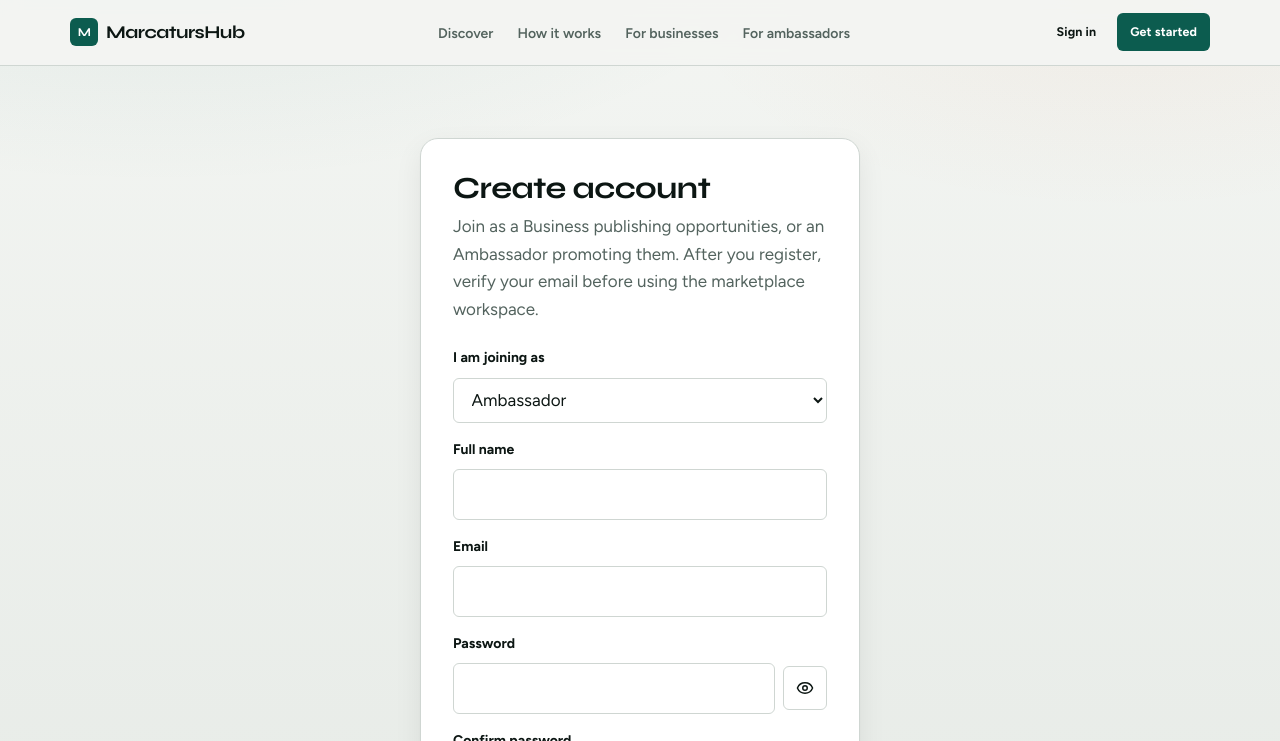
Scenario: MH-OPS-055 registration field-level API validation UX › Test C — ignores unknown/malformed details and shows form-level fallback
Select "Ambassador" in the dropdown labelled "I am joining as": (640, 400) [453,378,827,423]
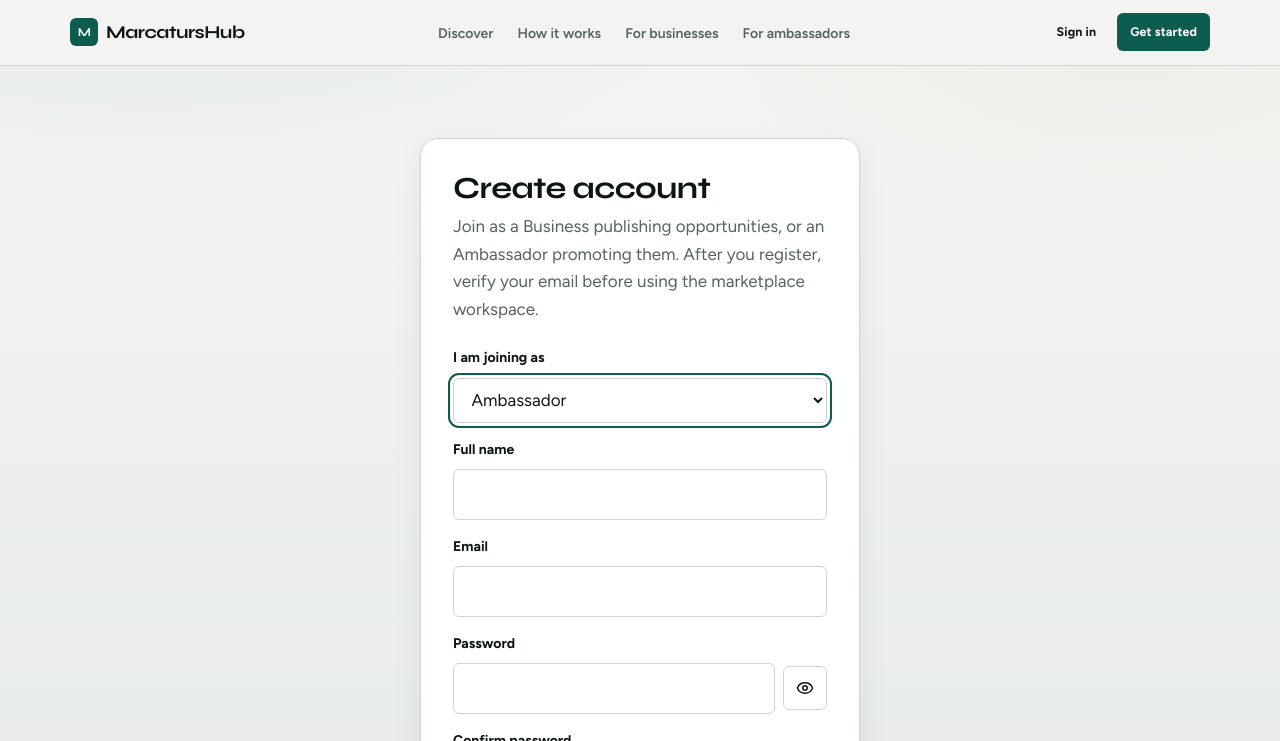
In the field labelled "Full name": (640, 494) [453,469,827,520], type "New Participant"
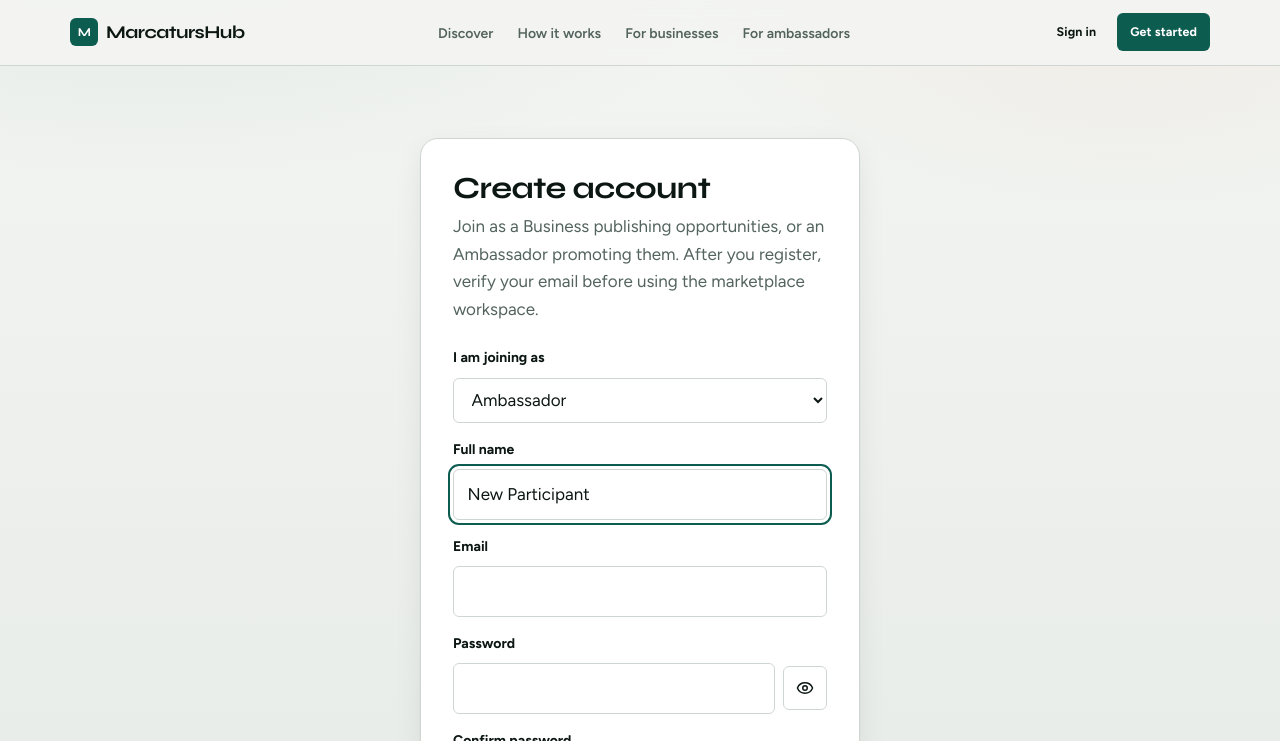
In the field labelled "Email": (640, 591) [453,566,827,616], type "new@example.com"
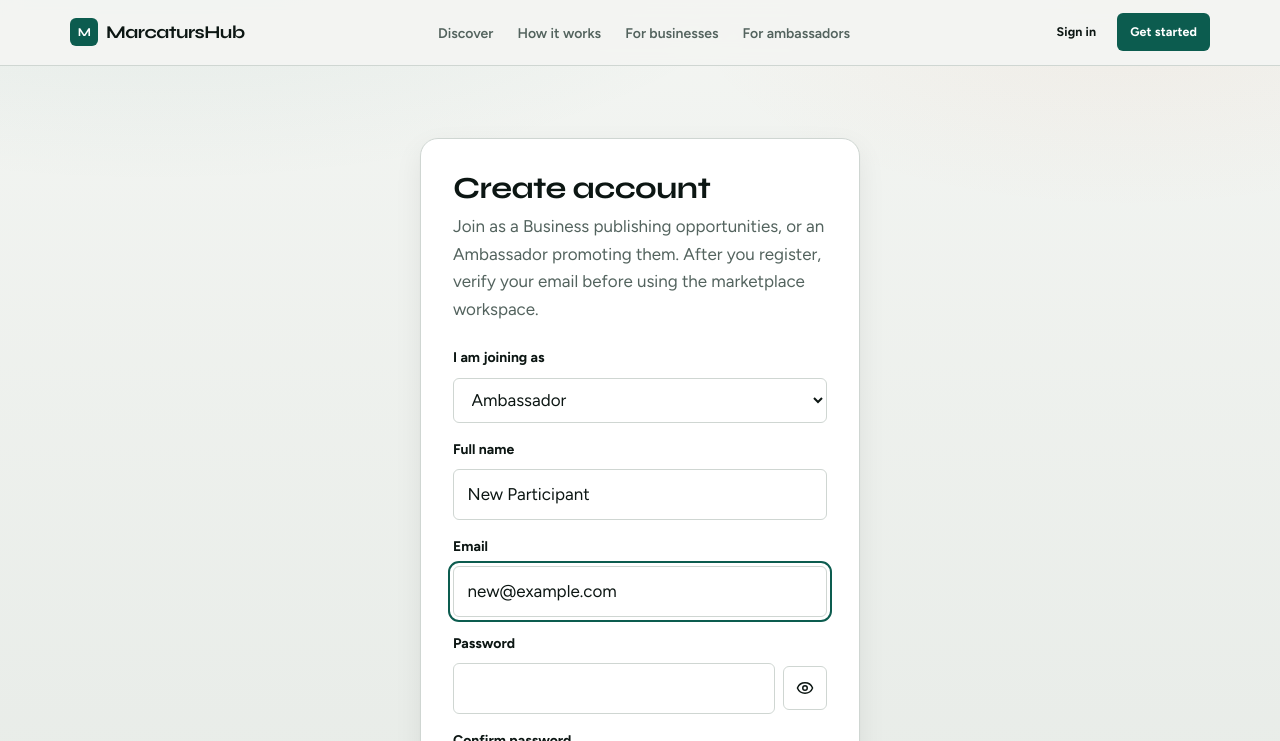
In the password field labelled "Password": (614, 688) [453,663,775,714], type "DemoPass123!"
(page scrolled)
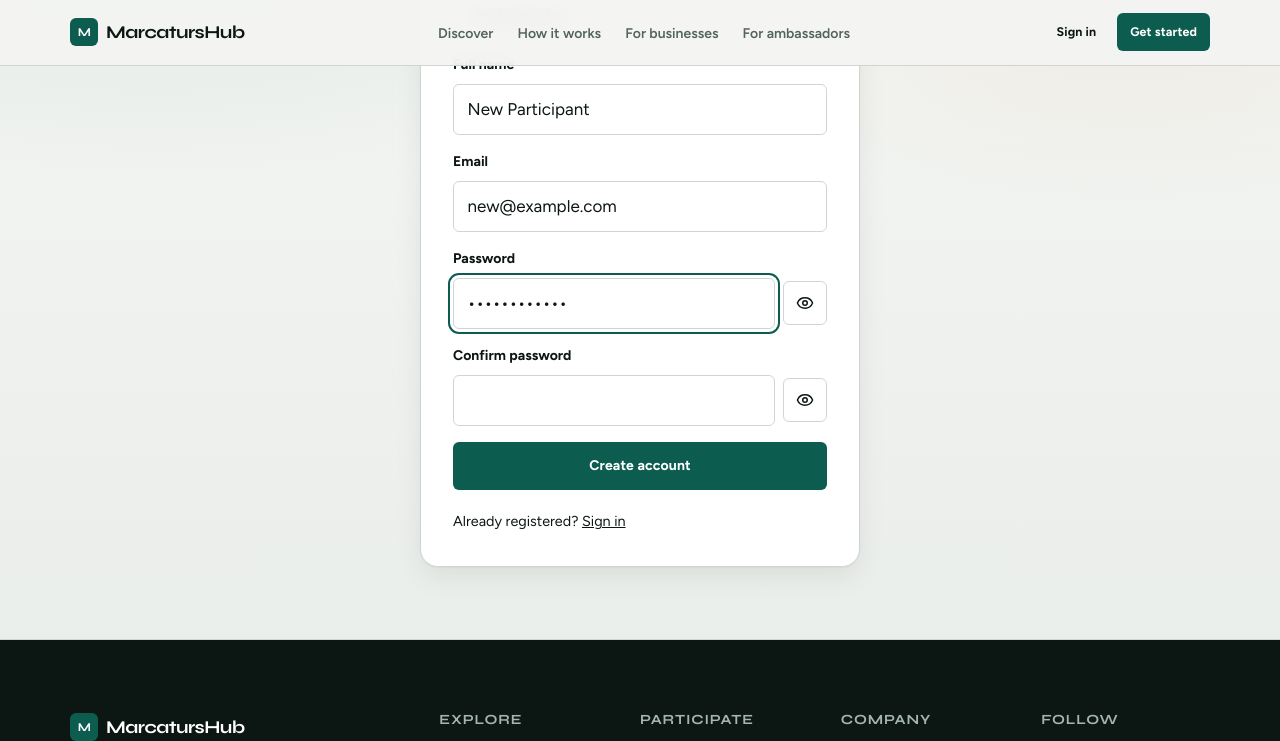
In the password field labelled "Confirm password": (614, 400) [453,375,775,426], type "DemoPass123!"
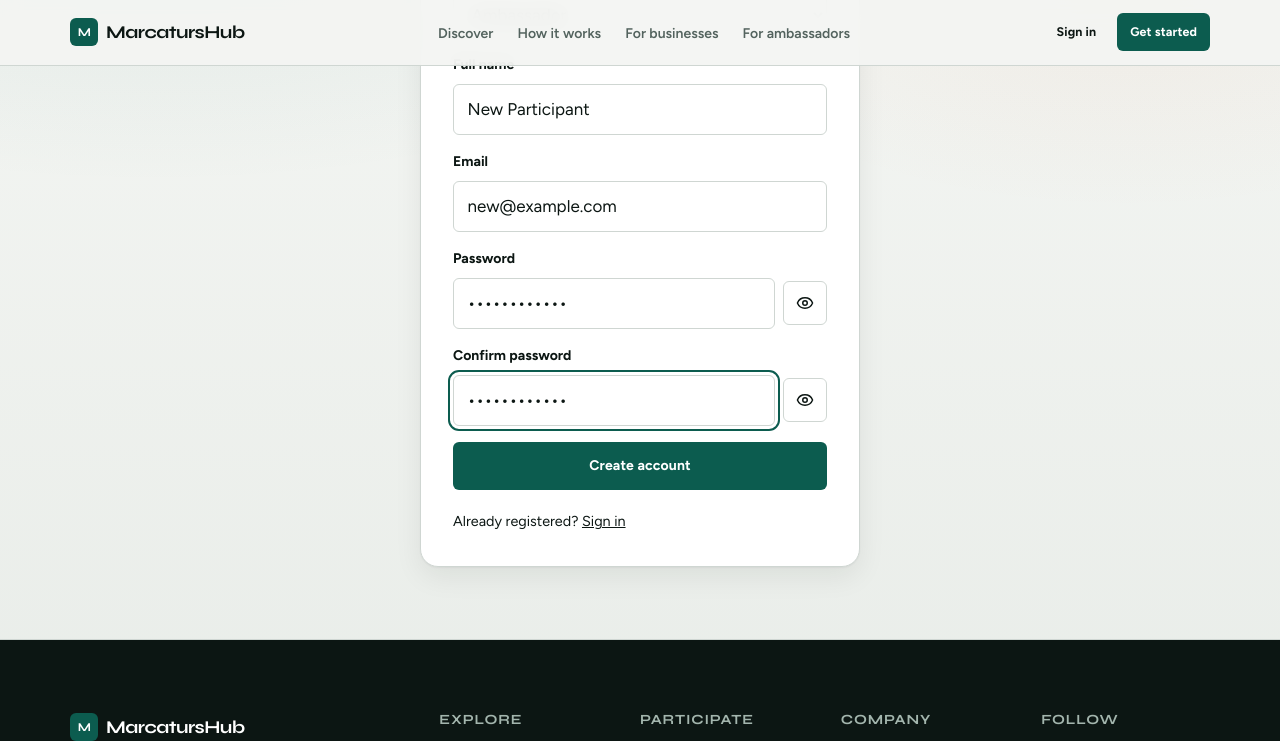
Click the button "Create account": (640, 466) [453,442,827,490]
(page scrolled)
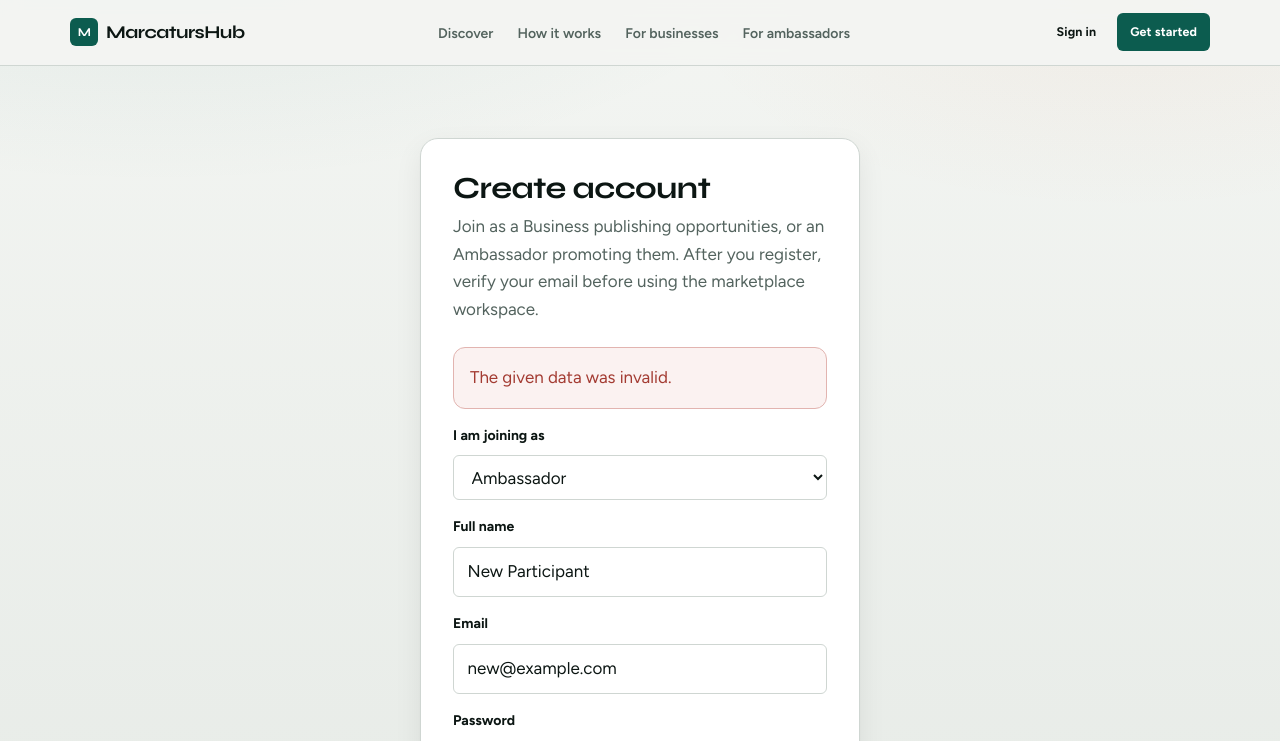
Expected: the message reads "The given data was invalid.", [470,367,672,387]
